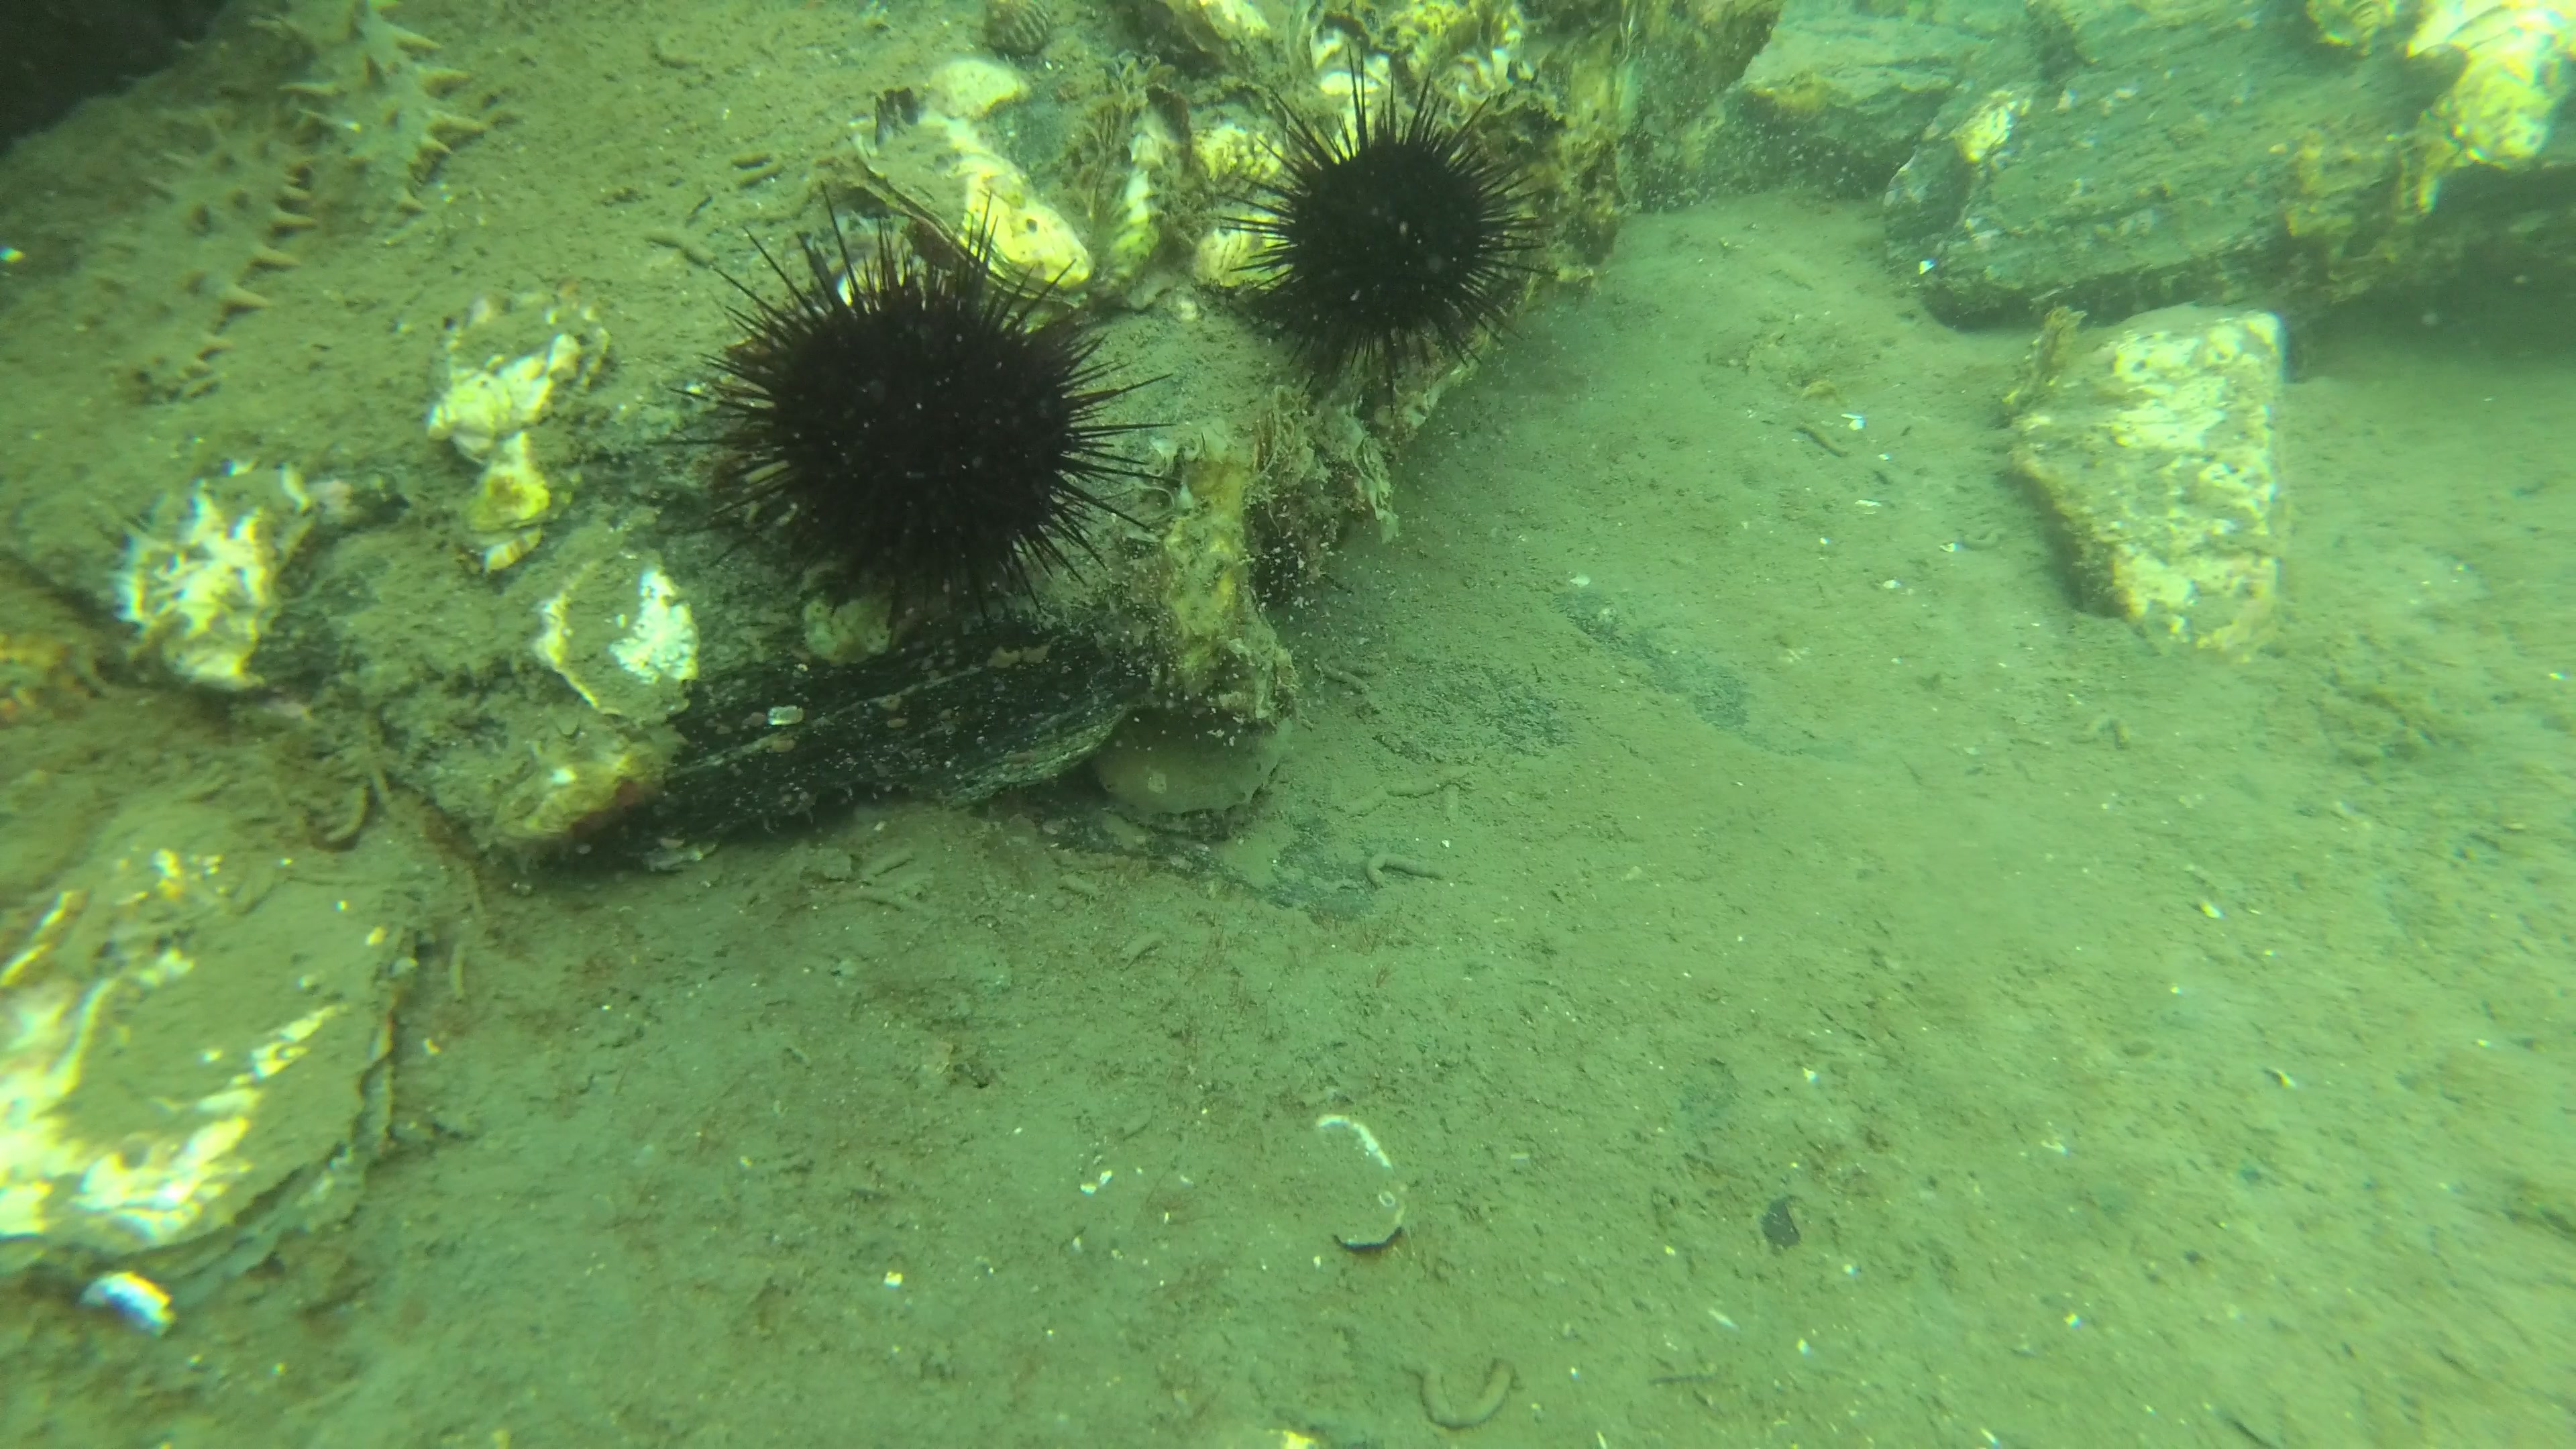echinus: (640, 177, 1180, 648), (1214, 41, 1562, 384)
holothurian: (80, 92, 322, 403), (242, 0, 490, 228)
